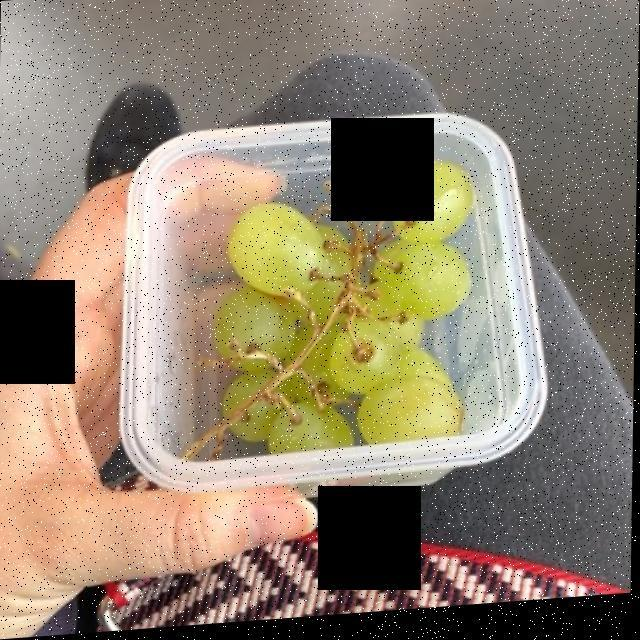grapes: (208, 174, 470, 451)
